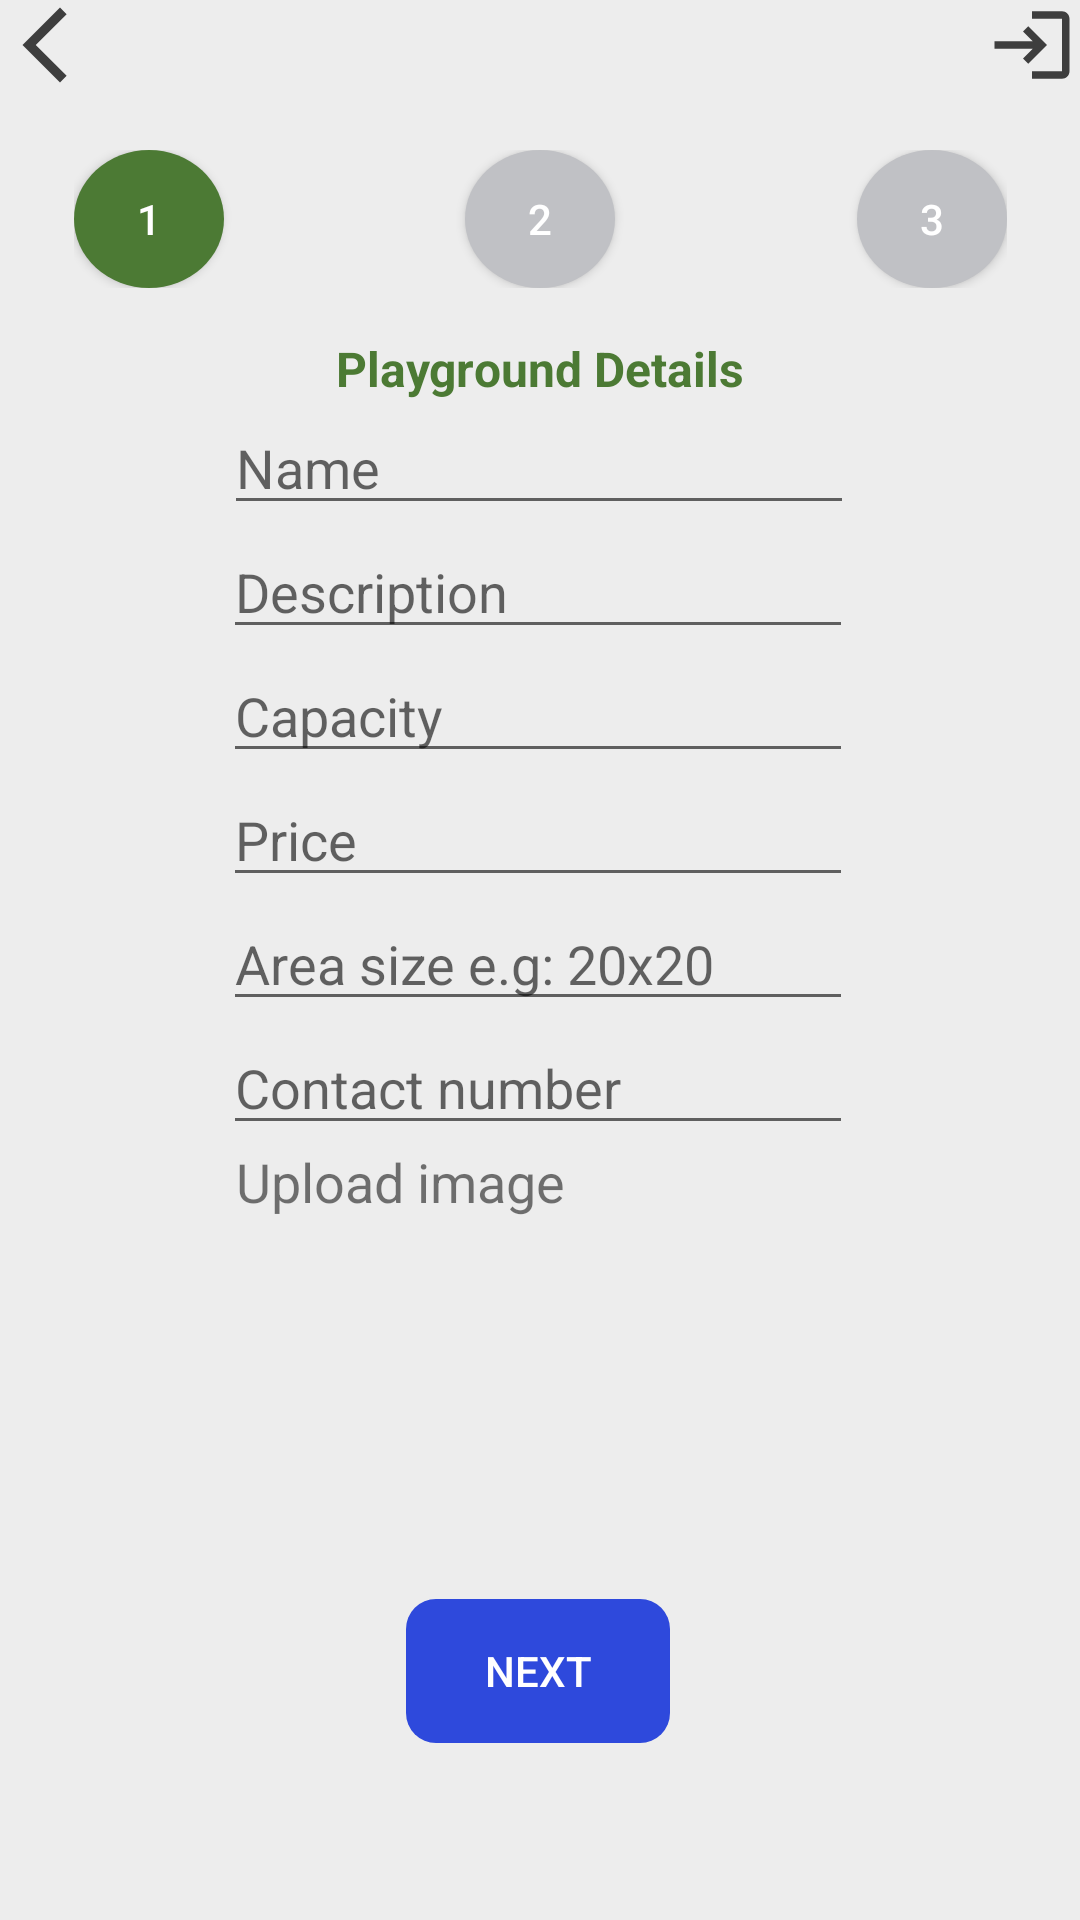

Icons on this 1080px×1920px Android screen, each with the point to tap as (x=x, y=y):
back: (x=45, y=45)
